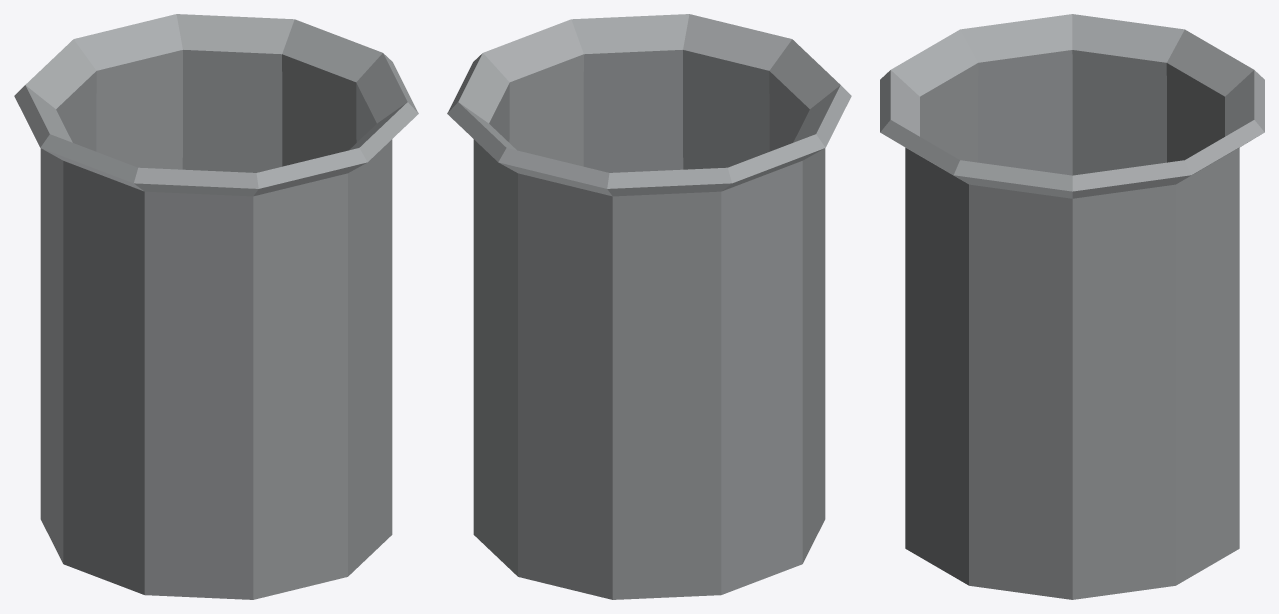
Rendered from SM_bin.fbx.
3 views of the same model, side by side, from view 1: azimuth 30°, elevation 25°; view 2: azimuth 150°, elevation 25°; view 3: azimuth 270°, elevation 25° (orthographic).
Parts seen in each view (by area): view 1: Cylinder011; view 2: Cylinder011; view 3: Cylinder011.
Boxes of the visible parts, x1,y1,x2,y2 form: Cylinder011: (14, 14, 418, 599); Cylinder011: (447, 14, 851, 599); Cylinder011: (880, 14, 1264, 599).
Size of the model in its own units: 22.24 by 26.14 by 21.15.
